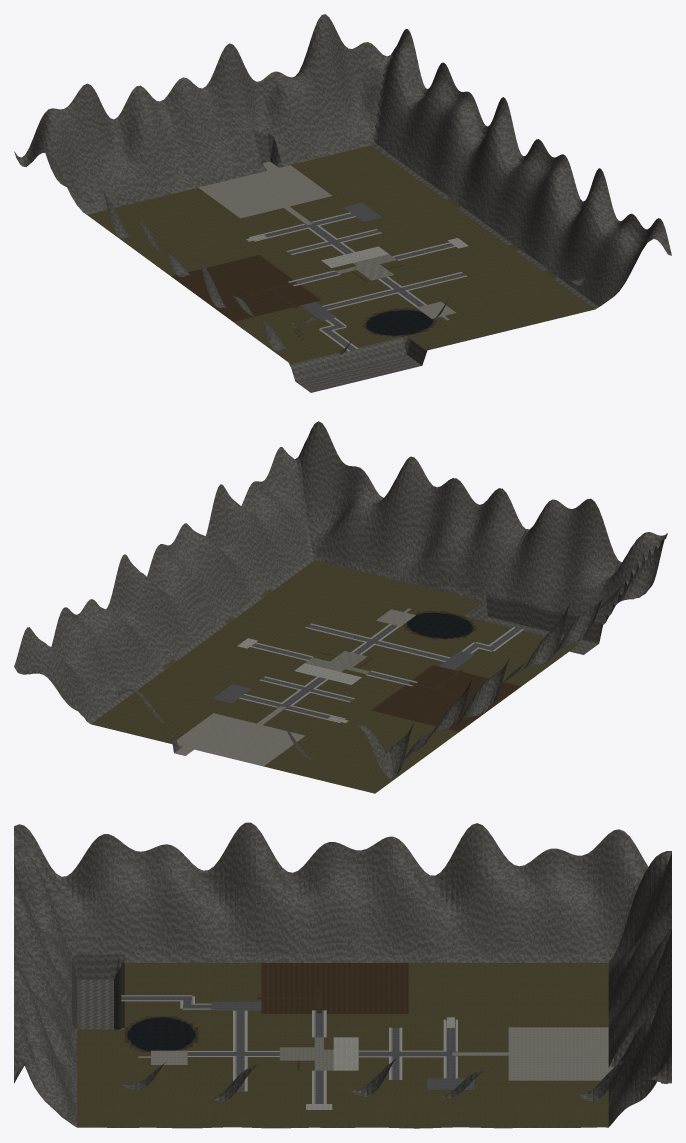
Rendered from terrain.glb.
The picture shows the model from 3 angles, top to bottom: view 1: azimuth 30°, elevation 25°; view 2: azimuth 150°, elevation 25°; view 3: azimuth 270°, elevation 25°; orthographic projection. The views are drawn at different scales.
Visible parts, largest first — view 1: ground-col, roads, streets, water; view 2: ground-col, roads, streets, water; view 3: ground-col, roads, streets, water.
Boxes of the visible parts, x1=… form: ground-col: x1=14, y1=14, x2=671, y2=392; roads: x1=246, y1=202, x2=468, y2=350; streets: x1=249, y1=212, x2=467, y2=351; water: x1=365, y1=310, x2=433, y2=335; ground-col: x1=14, y1=421, x2=667, y2=793; roads: x1=213, y1=608, x2=521, y2=728; streets: x1=239, y1=623, x2=523, y2=722; water: x1=407, y1=612, x2=472, y2=638; ground-col: x1=14, y1=822, x2=671, y2=1128; roads: x1=121, y1=986, x2=520, y2=1109; streets: x1=121, y1=995, x2=457, y2=1103; water: x1=127, y1=1017, x2=195, y2=1051.
Size of the model in its own units: 396 by 130 by 500.
13 materials, 13 textured.
